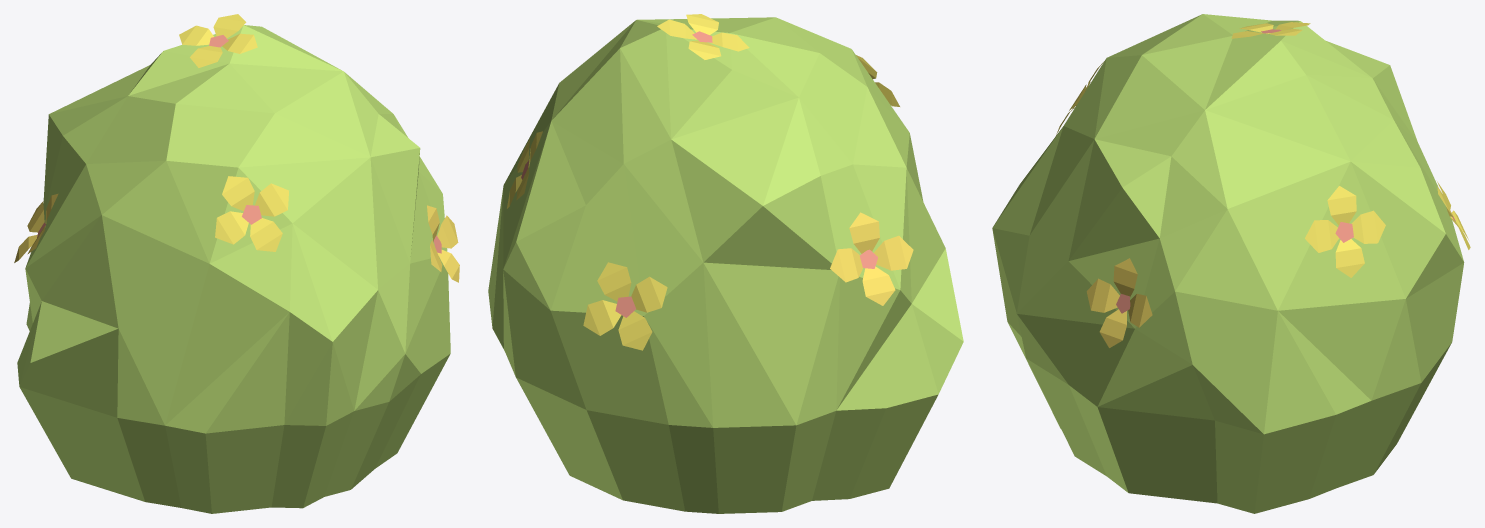
The model's file is FlowerBush_b_m_01.fbx.
3 views of the same model, side by side, from view 1: azimuth 30°, elevation 25°; view 2: azimuth 150°, elevation 25°; view 3: azimuth 270°, elevation 25° (orthographic). The views are drawn at different scales.
Visible parts, largest first — view 1: FlowerBush_b_m_01; view 2: FlowerBush_b_m_01; view 3: FlowerBush_b_m_01.
Boxes of the visible parts, x1,y1,x2,y2 form: FlowerBush_b_m_01: [14, 14, 459, 513]; FlowerBush_b_m_01: [488, 14, 963, 513]; FlowerBush_b_m_01: [992, 14, 1470, 513].
Bounding box in the file's own units: 2.07 × 1.9 × 1.97.
